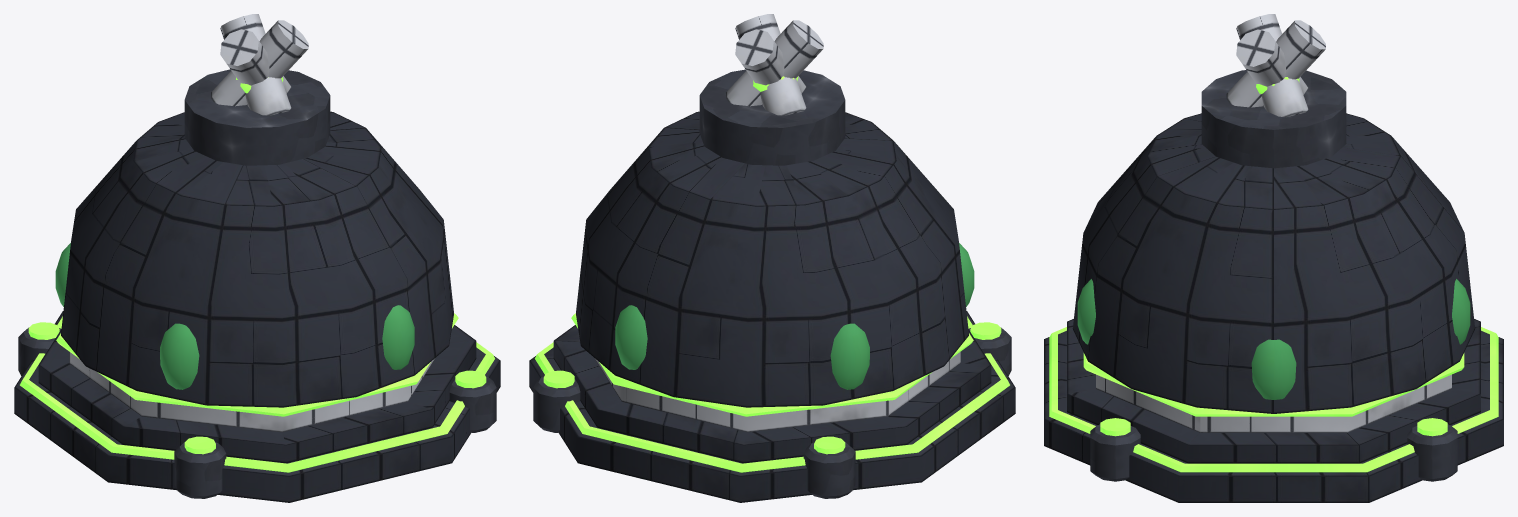
Rendered from sf_sporemine.glb.
3 views of the same model, side by side, from view 1: azimuth 30°, elevation 25°; view 2: azimuth 150°, elevation 25°; view 3: azimuth 270°, elevation 25° (orthographic).
Parts seen in each view (by area): view 1: Base, Turret; view 2: Base, Turret; view 3: Base, Turret.
Boxes of the visible parts, left/top/right/bottom form: Base: left=14, top=111, right=500, bottom=502; Turret: left=184, top=14, right=330, bottom=165; Base: left=529, top=111, right=1015, bottom=502; Turret: left=699, top=14, right=845, bottom=165; Base: left=1044, top=113, right=1503, bottom=502; Turret: left=1201, top=14, right=1346, bottom=168.
Size of the model in its own units: 0.8684 by 0.7975 by 0.8684.
Materials: 5 (5 with a texture image).
